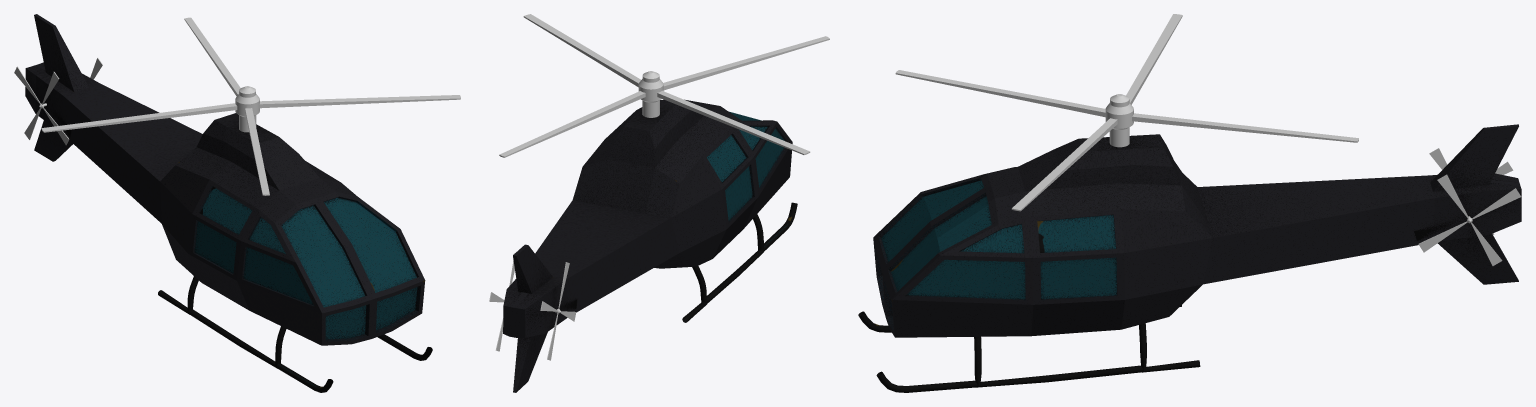
File: anim_000068.obj
3 renders of one model, left to right at view 1: azimuth 30°, elevation 25°; view 2: azimuth 150°, elevation 25°; view 3: azimuth 270°, elevation 25°, orthographic. The views are drawn at different scales.
Visible parts, largest first — view 1: Helicopter.007_Cylinder.008, Helicopter.001_Cylinder.001, Helicopter.004_Cylinder.005; view 2: Helicopter.007_Cylinder.008, Helicopter.001_Cylinder.001, Helicopter.004_Cylinder.005; view 3: Helicopter.007_Cylinder.008, Helicopter.001_Cylinder.001, Helicopter.003_Cylinder.004.
Boxes of the visible parts, x1=… form: Helicopter.007_Cylinder.008: x1=25, y1=14, x2=432, y2=392; Helicopter.001_Cylinder.001: x1=41, y1=17, x2=460, y2=195; Helicopter.004_Cylinder.005: x1=14, y1=66, x2=69, y2=145; Helicopter.007_Cylinder.008: x1=503, y1=99, x2=797, y2=392; Helicopter.001_Cylinder.001: x1=499, y1=14, x2=829, y2=157; Helicopter.004_Cylinder.005: x1=540, y1=262, x2=576, y2=360; Helicopter.007_Cylinder.008: x1=858, y1=124, x2=1521, y2=392; Helicopter.001_Cylinder.001: x1=895, y1=14, x2=1358, y2=211; Helicopter.003_Cylinder.004: x1=1418, y1=174, x2=1521, y2=265.
Bounding box in the file's own units: 5.28 × 3.21 × 7.55.
